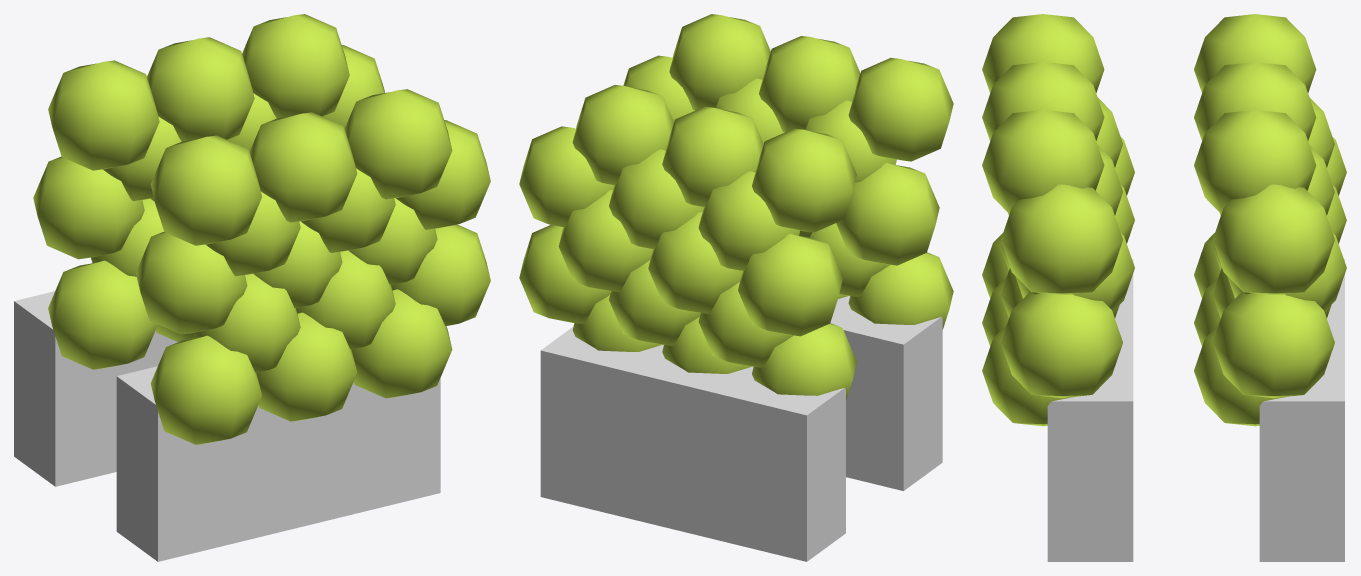
The model's file is forestWalls.fbx.
3 views of the same model, side by side, from view 1: azimuth 30°, elevation 25°; view 2: azimuth 150°, elevation 25°; view 3: azimuth 270°, elevation 25° (orthographic). The views are drawn at different scales.
Visible parts, largest first — view 1: modularForestPiece, modularForestCanopy, modularForestWall; view 2: modularForestCanopy, modularForestPiece, modularForestWall; view 3: modularForestPiece, modularForestCanopy, modularForestWall.
Part boxes in pixels (<box>): modularForestPiece: <box>116,89,490,561</box>; modularForestCanopy: <box>33,14,384,369</box>; modularForestWall: <box>14,291,177,486</box>; modularForestCanopy: <box>519,85,856,400</box>; modularForestPiece: <box>623,14,953,490</box>; modularForestWall: <box>540,326,845,561</box>; modularForestPiece: <box>982,14,1134,561</box>; modularForestCanopy: <box>1194,14,1346,426</box>; modularForestWall: <box>1259,259,1344,561</box>.
Bounding box in the file's own units: 7161 × 8350 × 6438.
